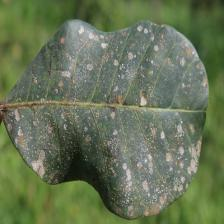red rust: (0, 18, 209, 220)
